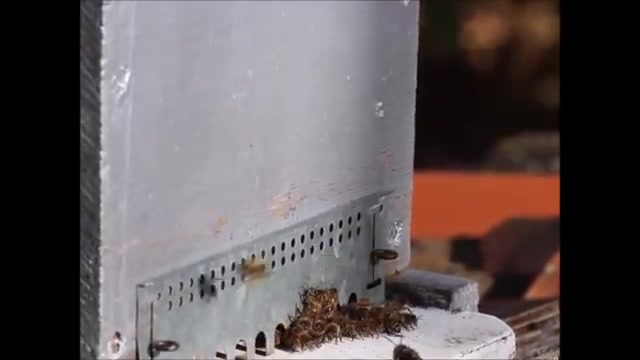bee: (354, 310, 418, 338), (284, 312, 323, 349), (300, 286, 340, 313), (324, 310, 353, 341)
